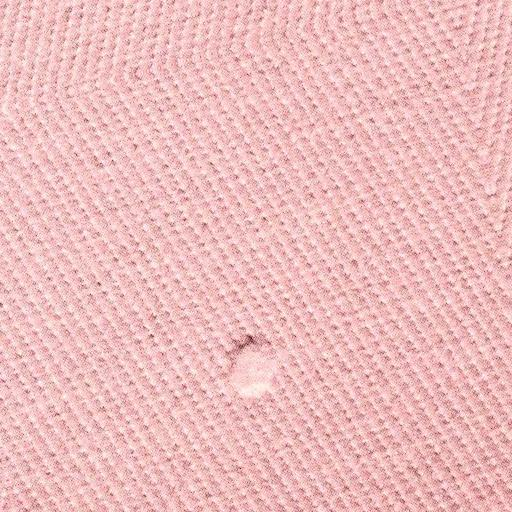knot: (220, 331, 284, 410)
